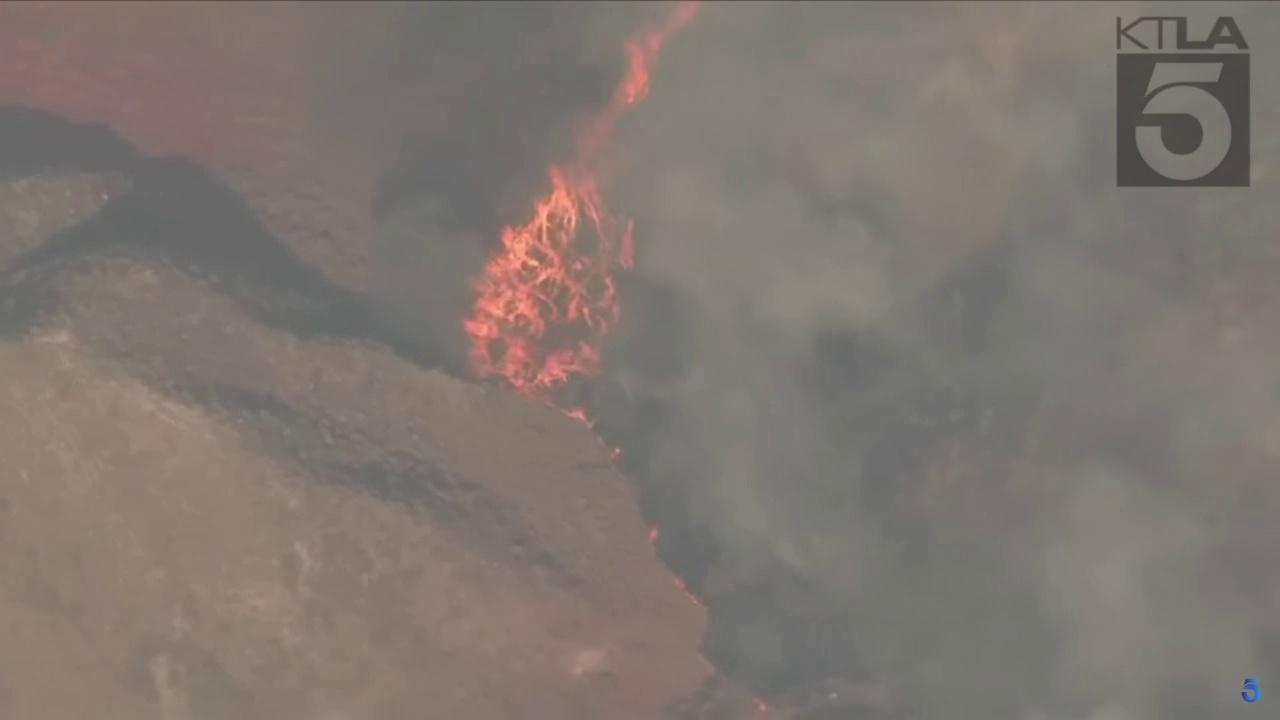fire: (457, 0, 703, 436), (674, 576, 703, 607), (647, 523, 660, 543), (753, 697, 767, 712), (609, 448, 621, 461)
smoke: (366, 0, 1280, 720)
